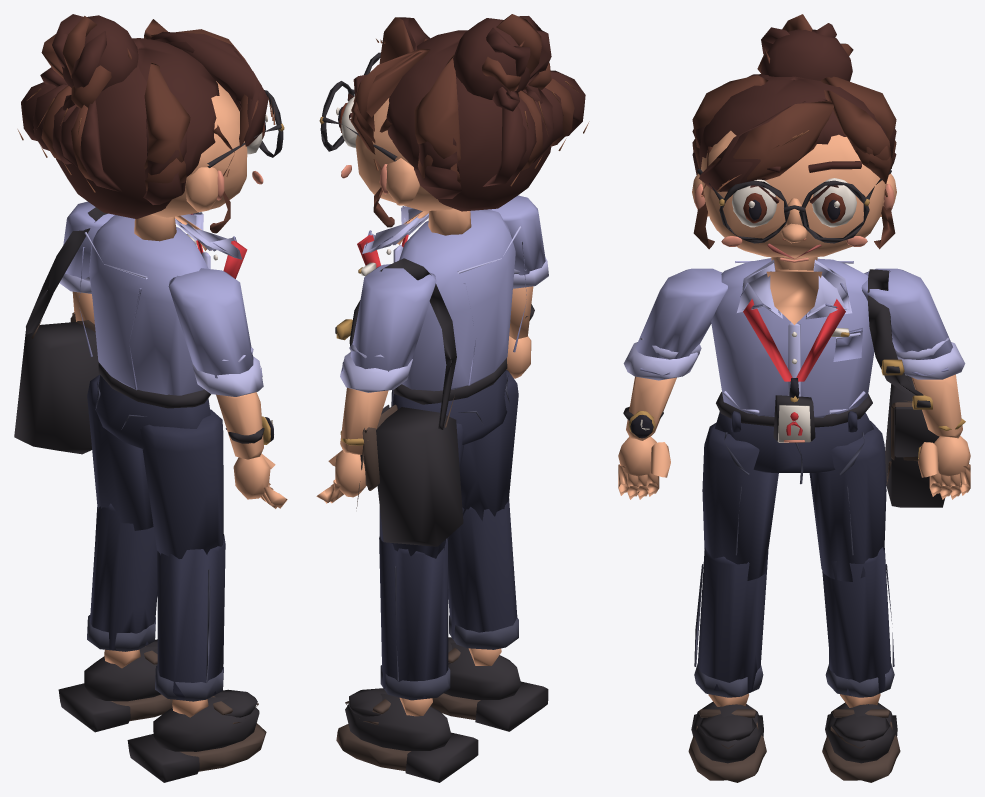
The picture shows the model from 3 angles, left to right: view 1: azimuth 30°, elevation 25°; view 2: azimuth 150°, elevation 25°; view 3: azimuth 270°, elevation 25°; orthographic projection. The views are drawn at different scales.
Visible parts, largest first — view 1: head, torso, shinR, legR, footR, shinL, armR, footL, hip, legL, foreArmR, handR (+2 smaller); view 2: head, torso, shinL, shinR, footL, armL, footR, legR, hip, foreArmL, armR, foreArmR (+3 smaller); view 3: head, torso, shinR, legL, legR, shinL, hip, armR, footL, footR, armL, foreArmR (+3 smaller).
Part boxes in pixels (left/top/right/bottom): head: left=17, top=14, right=284, bottom=241; torso: left=14, top=207, right=247, bottom=454; shinR: left=155, top=535, right=225, bottom=701; legR: left=140, top=409, right=223, bottom=558; footR: left=127, top=689, right=266, bottom=782; shinL: left=87, top=503, right=157, bottom=651; armR: left=168, top=268, right=253, bottom=378; footL: left=58, top=639, right=172, bottom=732; hip: left=95, top=361, right=226, bottom=449; legL: left=87, top=374, right=153, bottom=530; foreArmR: left=192, top=356, right=273, bottom=459; handR: left=233, top=453, right=287, bottom=508; head: left=319, top=14, right=589, bottom=235; torso: left=335, top=206, right=526, bottom=546; shinL: left=379, top=536, right=450, bottom=700; shinR: left=448, top=498, right=518, bottom=649; footL: left=336, top=688, right=478, bottom=782; armL: left=349, top=264, right=436, bottom=371; footR: left=430, top=637, right=548, bottom=731; legR: left=460, top=370, right=518, bottom=521; hip: left=391, top=358, right=510, bottom=444; foreArmL: left=340, top=352, right=412, bottom=454; armR: left=488, top=195, right=545, bottom=275; foreArmR: left=509, top=257, right=548, bottom=339; head: left=692, top=14, right=896, bottom=270; torso: left=711, top=258, right=944, bottom=507; shinR: left=694, top=547, right=768, bottom=697; legL: left=809, top=421, right=886, bottom=581; legR: left=702, top=422, right=778, bottom=580; shinL: left=822, top=547, right=894, bottom=697; hip: left=715, top=392, right=873, bottom=484; armR: left=635, top=268, right=727, bottom=359; footL: left=822, top=693, right=900, bottom=782; footR: left=688, top=693, right=766, bottom=782; armL: left=861, top=268, right=952, bottom=359; foreArmR: left=623, top=342, right=699, bottom=440.
Size of the model in its own units: 0.5418 by 1.8 by 0.8113.
